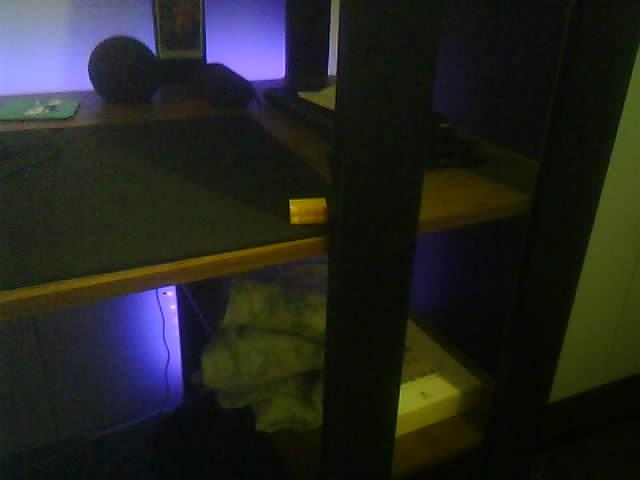lego: (288, 197, 329, 224)
